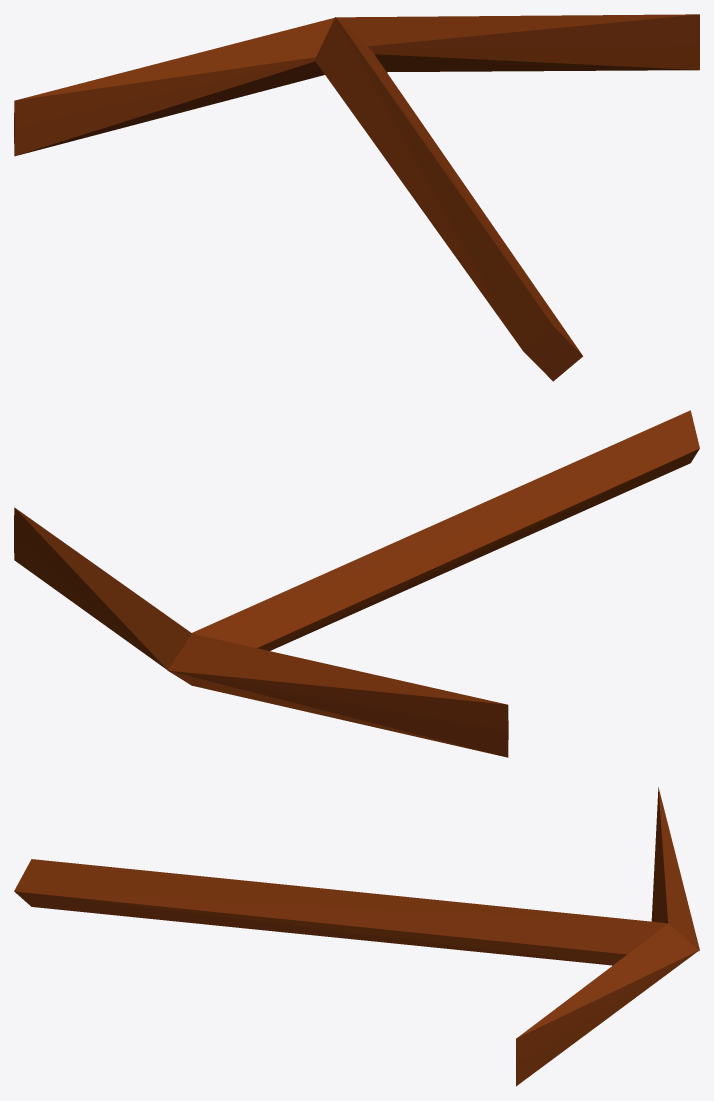
File: pick.dae
3 views of the same model, one above another, from view 1: azimuth 30°, elevation 25°; view 2: azimuth 150°, elevation 25°; view 3: azimuth 270°, elevation 25° (orthographic). The views are drawn at different scales.
Parts seen in each view (by area): view 1: Cube, Cube_001, Cube_002; view 2: Cube, Cube_002, Cube_001; view 3: Cube, Cube_001, Cube_002.
Part boxes in pixels (x1,y1,x2,y2): Cube: [314, 17, 583, 381]; Cube_001: [336, 14, 699, 72]; Cube_002: [14, 18, 334, 156]; Cube: [192, 410, 699, 650]; Cube_002: [167, 633, 508, 757]; Cube_001: [14, 507, 192, 682]; Cube: [14, 859, 667, 965]; Cube_001: [516, 924, 699, 1086]; Cube_002: [651, 787, 699, 951].
Bounding box in the file's own units: 12.32 × 14.16 × 1.09.
